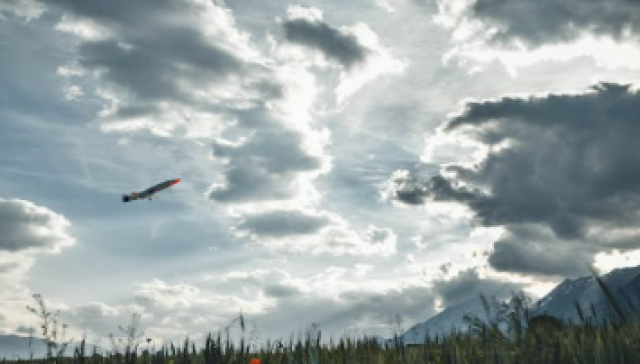military drone: (121, 177, 182, 203)
